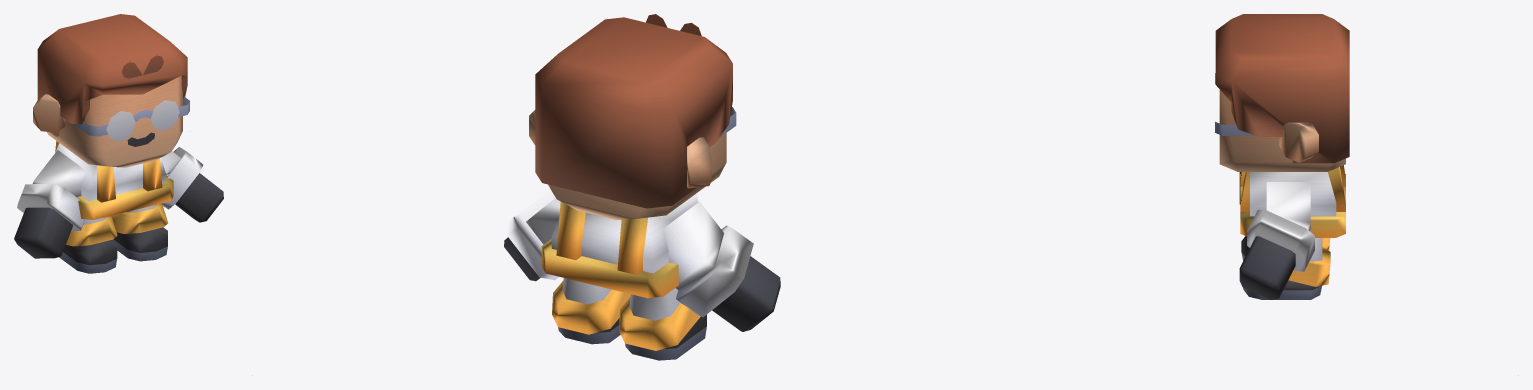
The model's file is builder_sprint_0.glb.
3 views of the same model, side by side, from view 1: azimuth 30°, elevation 25°; view 2: azimuth 150°, elevation 25°; view 3: azimuth 270°, elevation 25° (orthographic). The views are drawn at different scales.
Parts seen in each view (by area): view 1: builder-sprint-0; view 2: builder-sprint-0; view 3: builder-sprint-0.
Boxes of the visible parts, x1,y1,x2,y2 form: builder-sprint-0: (14,14,223,273); builder-sprint-0: (504,14,780,360); builder-sprint-0: (1215,14,1349,299).
Bounding box in the file's own units: 1.2 × 0.676 × 1.2.
1 material, 1 textured.
